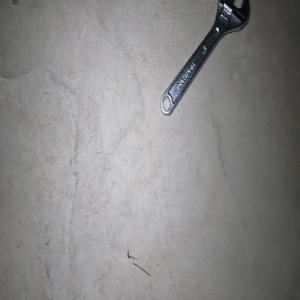Wrench: (160, 0, 249, 115)
